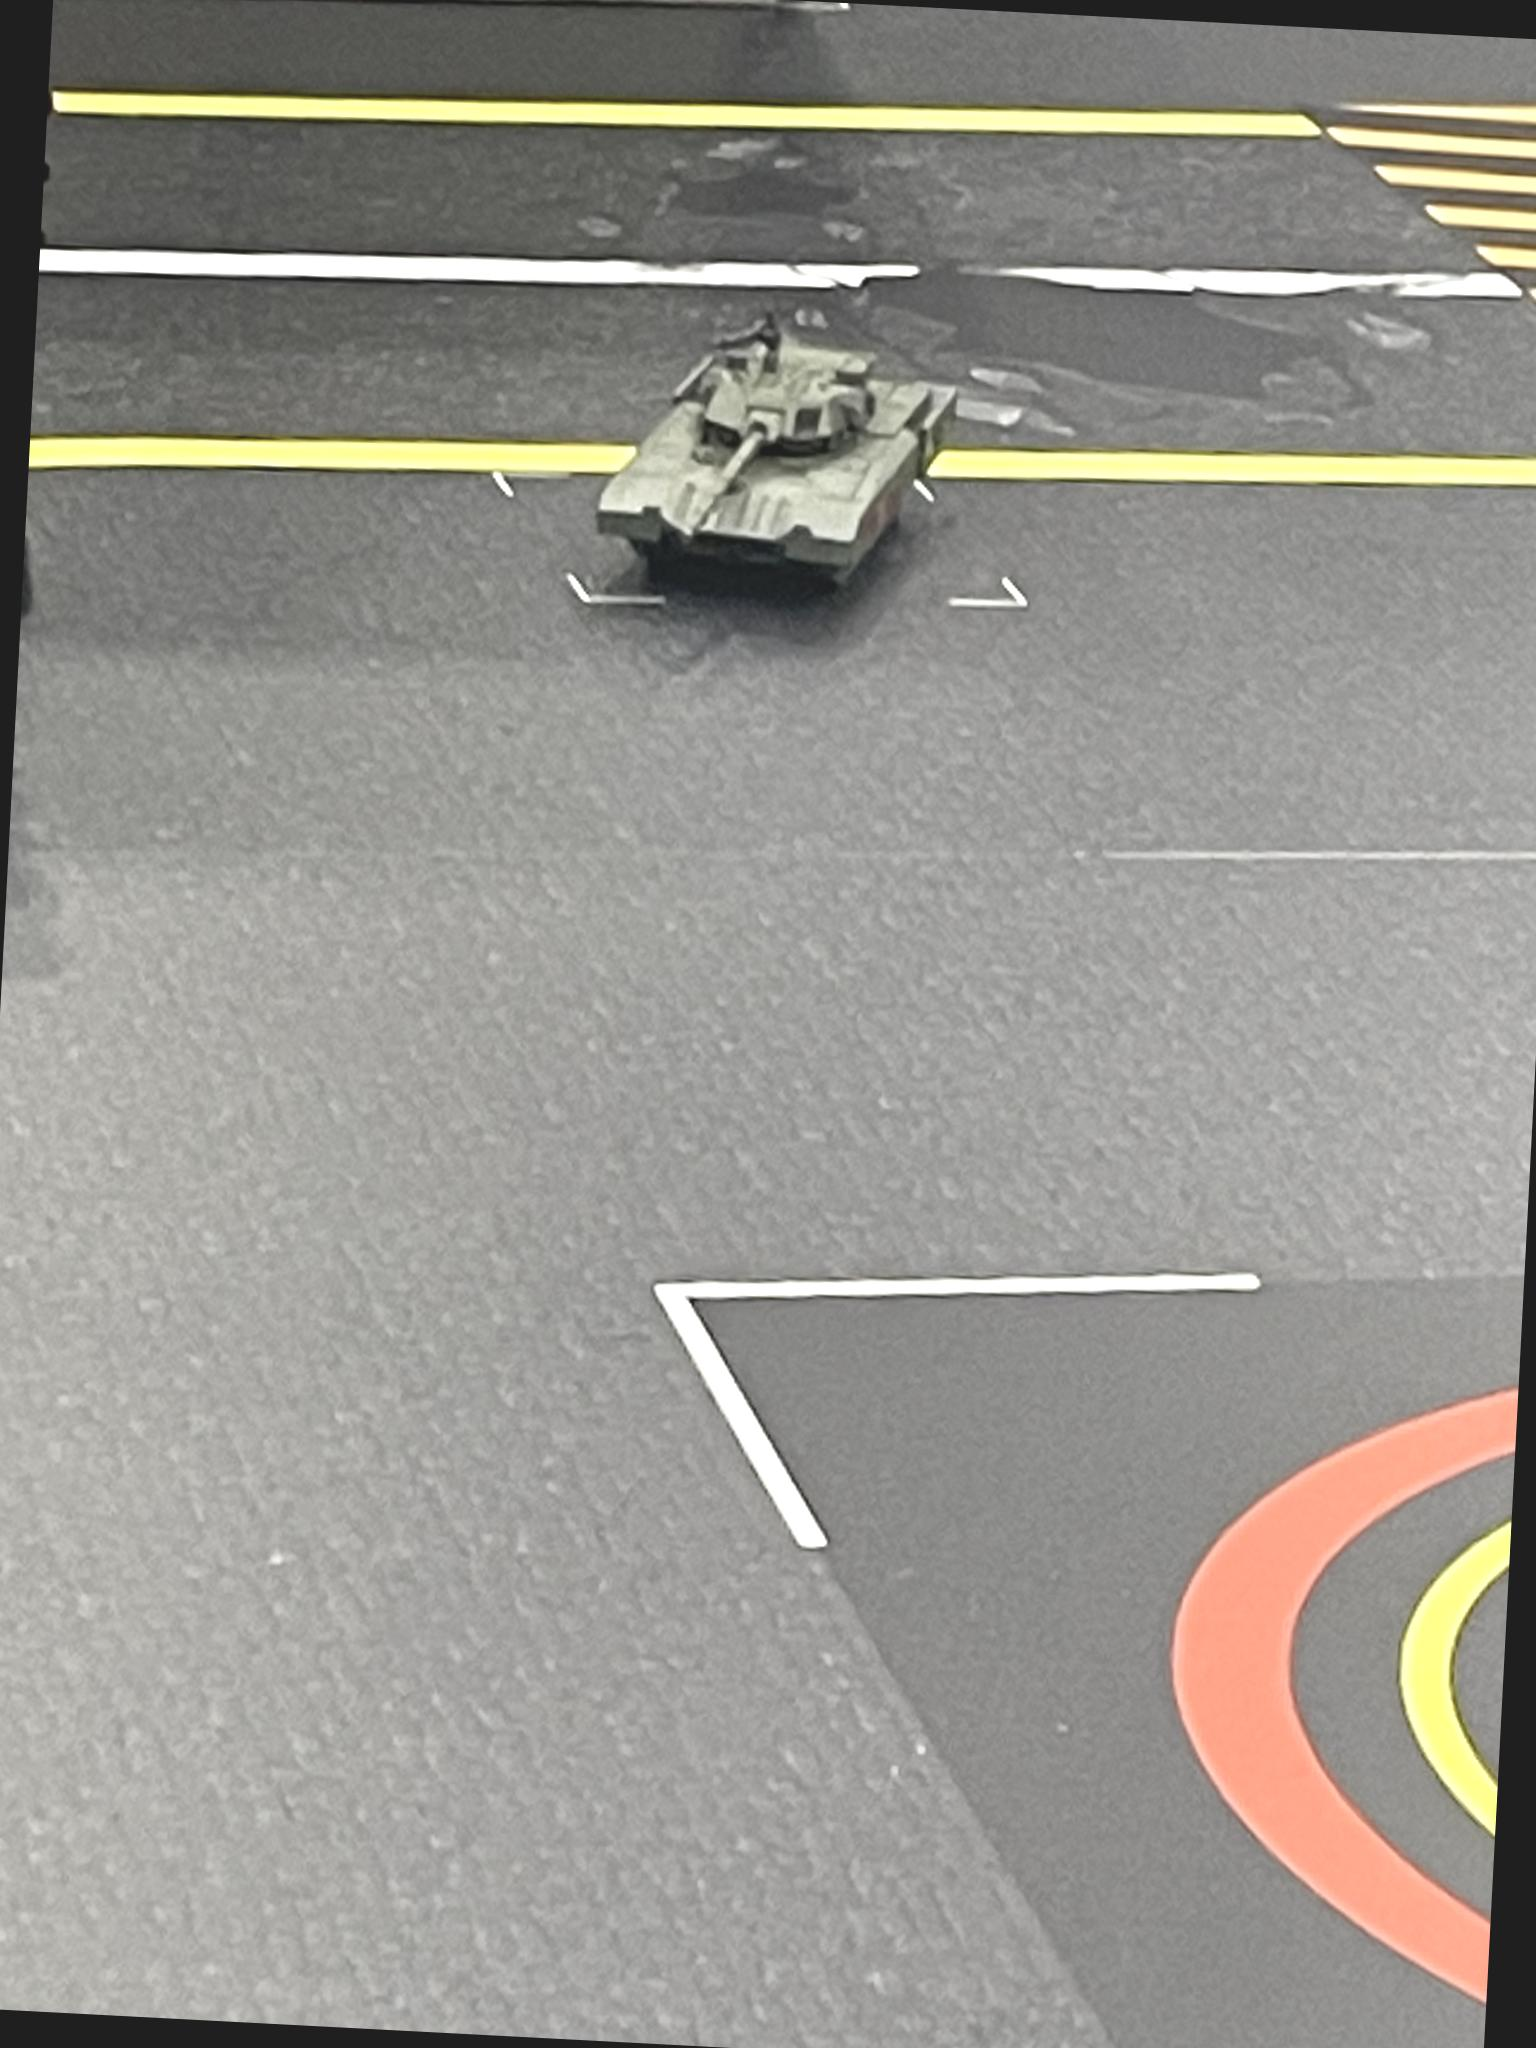Tank: (591, 295, 966, 608)
